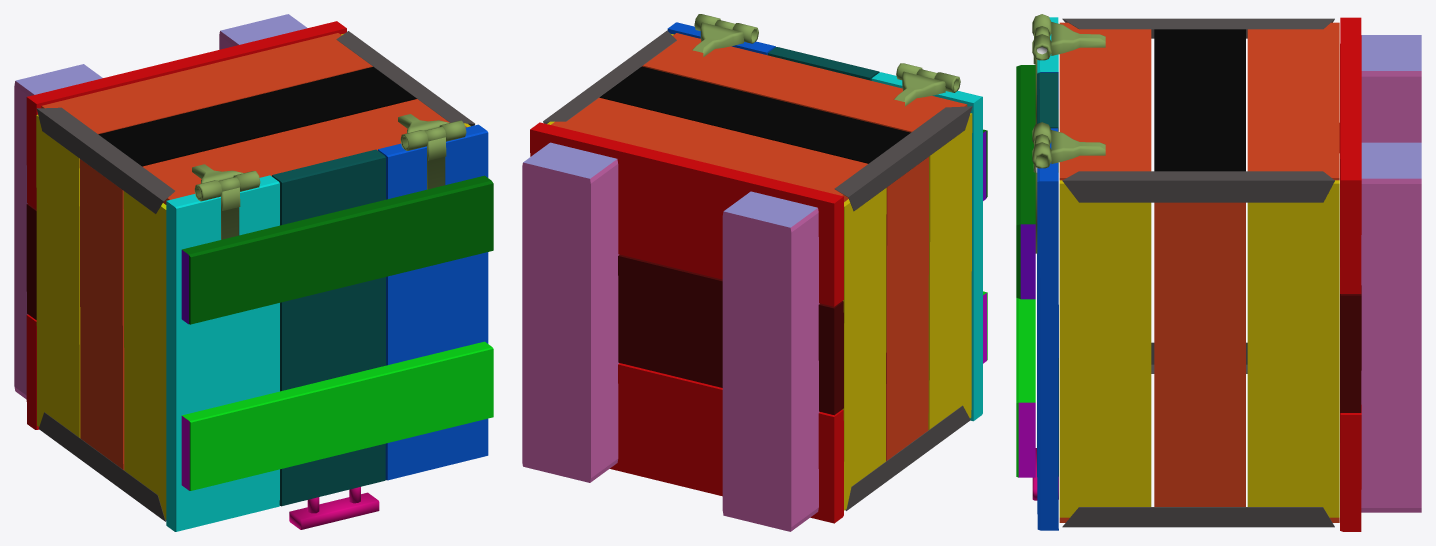
The model's file is Wood_Crate.gltf.
3 views of the same model, side by side, from view 1: azimuth 30°, elevation 25°; view 2: azimuth 150°, elevation 25°; view 3: azimuth 270°, elevation 25° (orthographic). The views are drawn at different scales.
Parts seen in each view (by area): view 1: storage chest_T1; view 2: storage chest_T1; view 3: storage chest_T1.
Boxes of the visible parts, x1,y1,x2,y2 form: storage chest_T1: [14, 14, 493, 531]; storage chest_T1: [522, 14, 987, 531]; storage chest_T1: [1016, 14, 1421, 531].
Bounding box in the file's own units: 870 × 972 × 906.
